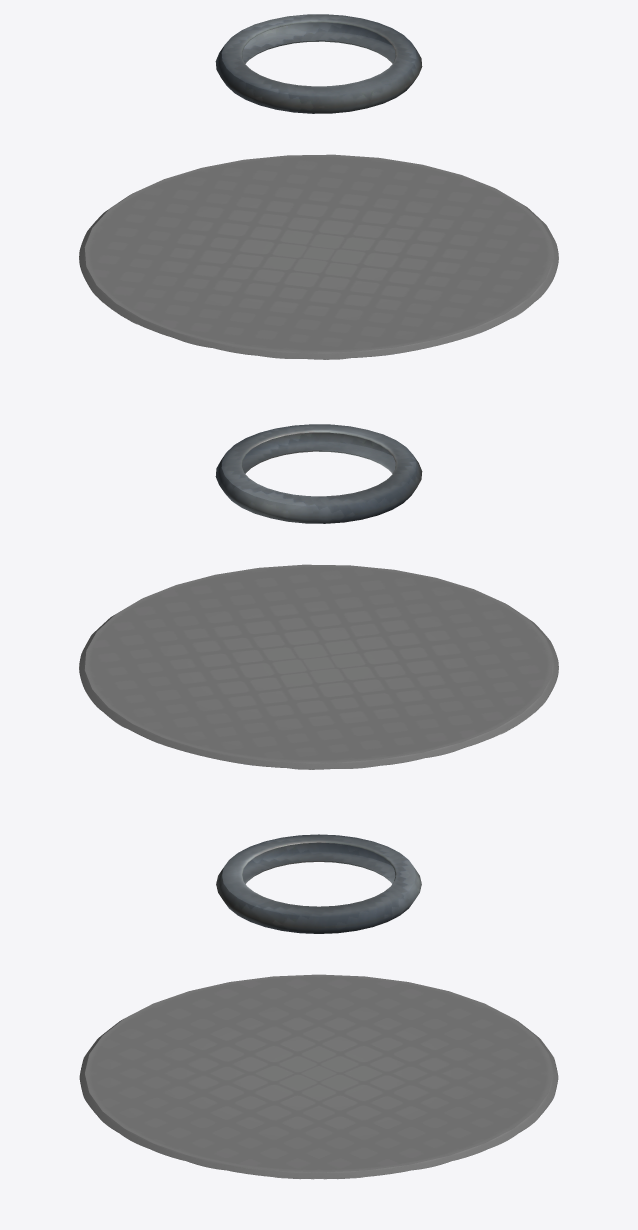
The model's file is pref_TPC_v2_WSJ_NeutralScoreArea03_purple_dead_lv2.fbx.
3 views of the same model, one above another, from view 1: azimuth 30°, elevation 25°; view 2: azimuth 150°, elevation 25°; view 3: azimuth 270°, elevation 25° (orthographic).
Parts seen in each view (by area): view 1: sm_prop_platform06a_lv2, sm_prop_platform06b_lv2; view 2: sm_prop_platform06a_lv2, sm_prop_platform06b_lv2; view 3: sm_prop_platform06a_lv2, sm_prop_platform06b_lv2.
Boxes of the visible parts, box(x1,y1,x2,y2) form: sm_prop_platform06a_lv2: box(79, 154, 558, 359); sm_prop_platform06b_lv2: box(215, 14, 422, 113); sm_prop_platform06a_lv2: box(79, 564, 558, 769); sm_prop_platform06b_lv2: box(215, 424, 422, 523); sm_prop_platform06a_lv2: box(79, 974, 558, 1179); sm_prop_platform06b_lv2: box(216, 834, 421, 933).
Size of the model in its own units: 7.46 by 2.88 by 7.46.
